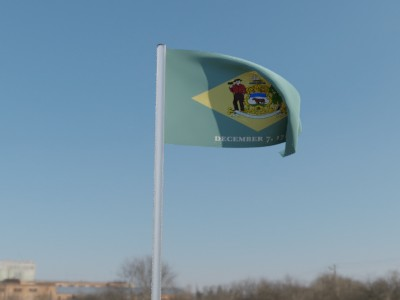Delaware flag: (164, 49, 306, 158)
